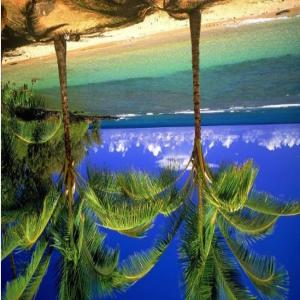palm tree: (76, 0, 299, 299)
